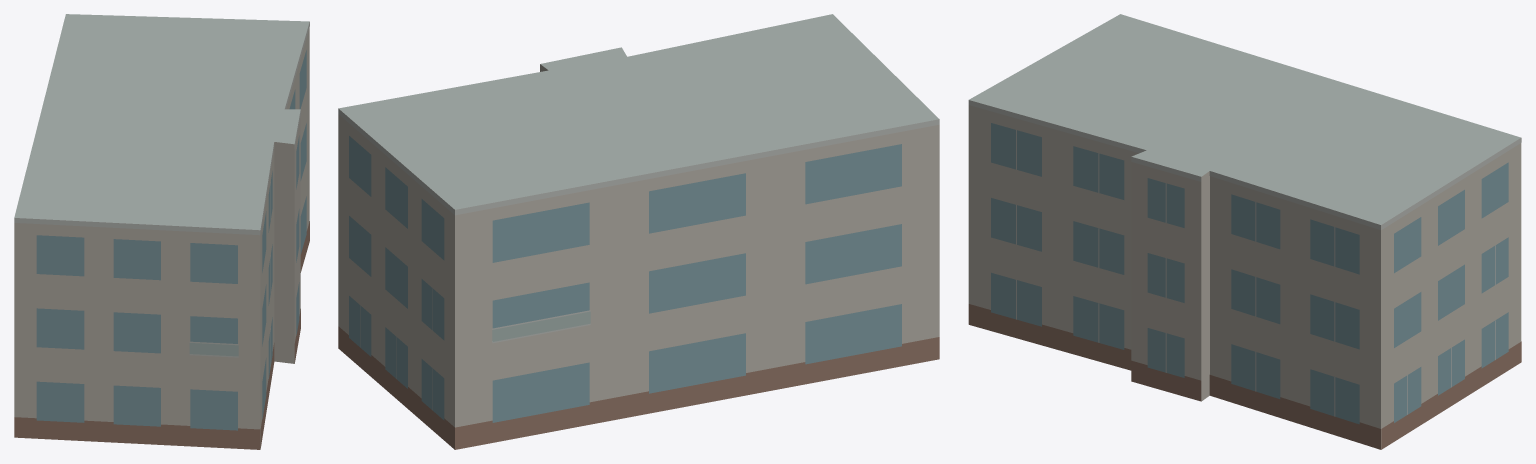
File: survey-upis-33009989.glb
3 renders of one model, left to right at view 1: azimuth 30°, elevation 25°; view 2: azimuth 150°, elevation 25°; view 3: azimuth 270°, elevation 25°, orthographic. The views are drawn at different scales.
Visible parts, largest first — view 1: survey-upis-33009989.tmp; view 2: survey-upis-33009989.tmp; view 3: survey-upis-33009989.tmp.
Boxes of the visible parts, x1=… form: survey-upis-33009989.tmp: x1=14, y1=14, x2=309, y2=449; survey-upis-33009989.tmp: x1=338, y1=14, x2=939, y2=449; survey-upis-33009989.tmp: x1=968, y1=14, x2=1521, y2=449.
Size of the model in its own units: 21.57 by 10.7 by 23.86.
